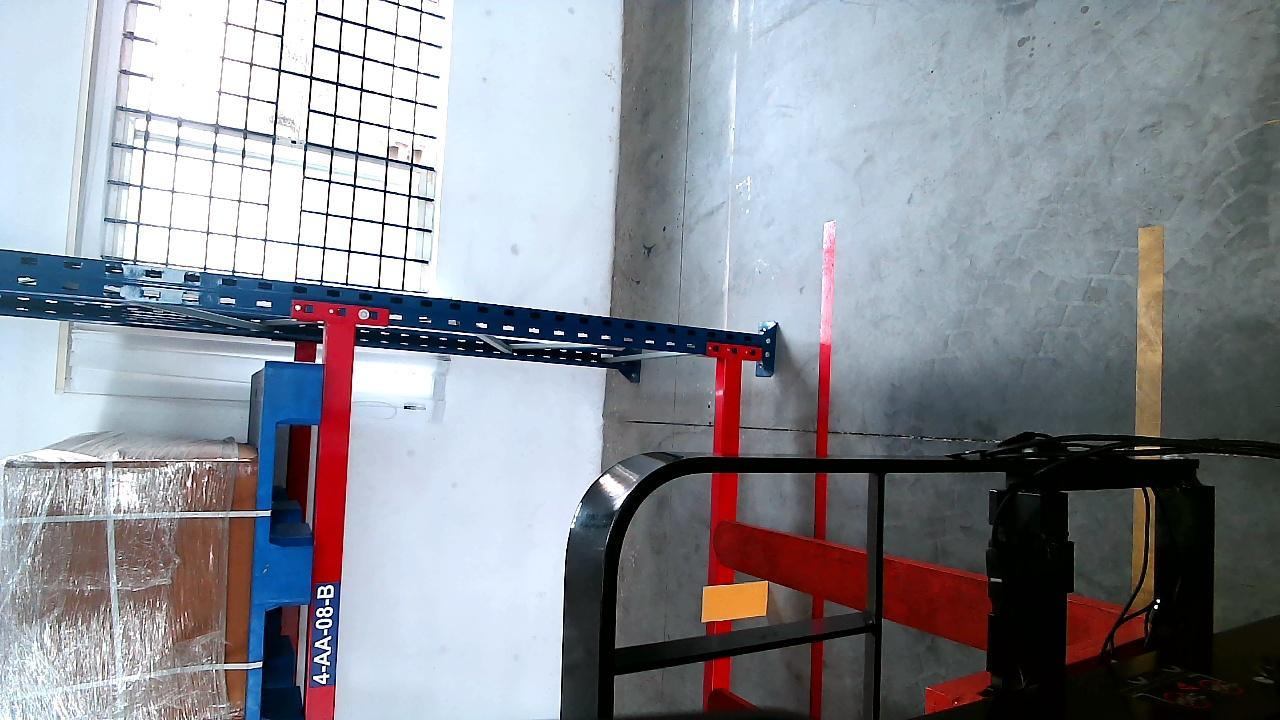red_line: (801, 224, 836, 720)
yellow_line: (1138, 222, 1163, 441)
